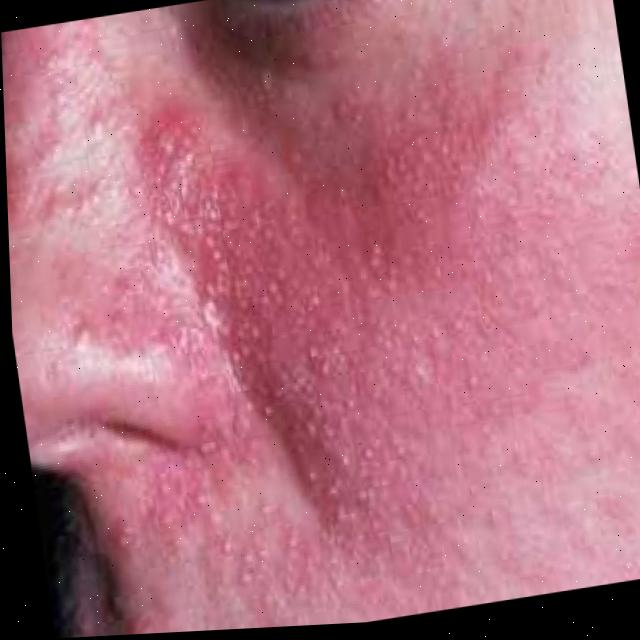Rosacea: (48, 16, 640, 638)
